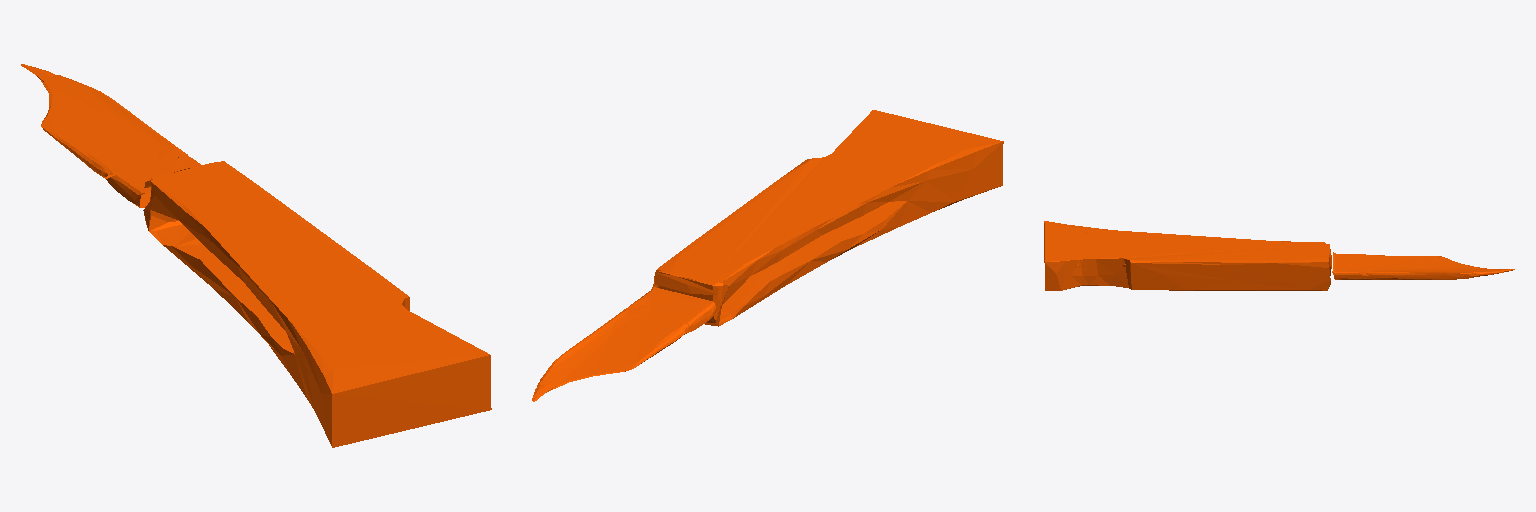
URDF robot description (Knife_118):
<?xml version="1.0" ?>
<robot name="Knife_118">
   <material name="obj_color">
      <color rgba="1.0 0.423529411765 0.0392156862745 1.0"/>
   </material>
   <link name="top">
      <inertial>
         <origin rpy="1.710198059638233e-05 0.0001984487789785498 0.0002104640086721728" xyz="-0.002386851219226314 -0.02018267202152664 6.528673649245216e-05"/>
         <mass value="0.1025349337731681"/>
         <inertia ixx="0.0001969189189989856" ixy="-1.658598289982607e-05" ixz="1.415582543533309e-09" iyy="1.863184176971496e-05" iyz="-1.166001260348599e-08" izz="0.0002104640074784044"/>
      </inertial>
      <visual>
         <origin rpy="0 0 0" xyz="0 0 0"/>
         <geometry>
            <mesh filename="top_watertight_tiny.stl" scale="1 1 1"/>
         </geometry>
         <material name="obj_color"/>
      </visual>
      <collision>
         <origin rpy="0 0 0" xyz="0 0 0"/>
         <geometry>
            <mesh filename="top_watertight_tiny.obj" scale="1 1 1"/>
         </geometry>
      </collision>
   </link>
   <link name="bottom">
      <inertial>
         <origin rpy="3.539548064441074e-07 3.616965158662096e-06 3.950377542114291e-06" xyz="0.006436784363852274 0.09875891213290172 0.000235460975677076"/>
         <mass value="0.007179501076256646"/>
         <inertia ixx="3.598764540766745e-06" ixy="-2.430173400118897e-07" ixz="8.283738166858787e-10" iyy="3.722236285058455e-07" iyz="1.560363331950777e-08" izz="3.950309337947905e-06"/>
      </inertial>
      <visual>
         <origin rpy="0 0 0" xyz="0 0 0"/>
         <geometry>
            <mesh filename="bottom_watertight_tiny.stl" scale="1 1 1"/>
         </geometry>
         <material name="obj_color"/>
      </visual>
      <collision>
         <origin rpy="0 0 0" xyz="0 0 0"/>
         <geometry>
            <mesh filename="bottom_watertight_tiny.obj" scale="1 1 1"/>
         </geometry>
      </collision>
   </link>
   <link name="world"/>
   <joint name="world_to_base" type="fixed">
      <origin xyz="0 0 0"/>
      <axis xyz="0 0 0"/>
      <parent link="world"/>
      <child link="bottom"/>
   </joint>
   <joint name="rotation" type="revolute">
      <origin xyz="0 0 0"/>
      <axis xyz="0 0 -1"/>
      <parent link="bottom"/>
      <child link="top"/>
      <dynamics damping="1.0" friction="1.0"/>
      <limit effort="0.1" velocity="0.1" lower="0" upper="0.001"/>
   </joint>
</robot>

--- Render facts (derived) ---
The picture shows the robot from 3 angles, left to right: view 1: azimuth 30°, elevation 25°; view 2: azimuth 150°, elevation 25°; view 3: azimuth 270°, elevation 25°; orthographic projection.
Robot: Knife_118 — 3 links, 2 joints (1 revolute, 1 fixed); root link world; default pose: every joint at zero.
Links seen in each view (by area): view 1: top, bottom; view 2: top, bottom; view 3: top, bottom.
Boxes of the visible links, bbox=[...] form: top: bbox=[143, 161, 491, 447]; bottom: bbox=[21, 64, 200, 207]; top: bbox=[653, 110, 1003, 326]; bottom: bbox=[532, 287, 715, 401]; top: bbox=[1044, 221, 1331, 290]; bottom: bbox=[1332, 252, 1514, 279].
Bounding box of the posed robot: 0.0525 × 0.252 × 0.0173 m (x, y, z).
Meshes: 2 distinct files referenced, 2 mesh visuals loaded (2 binary STL).